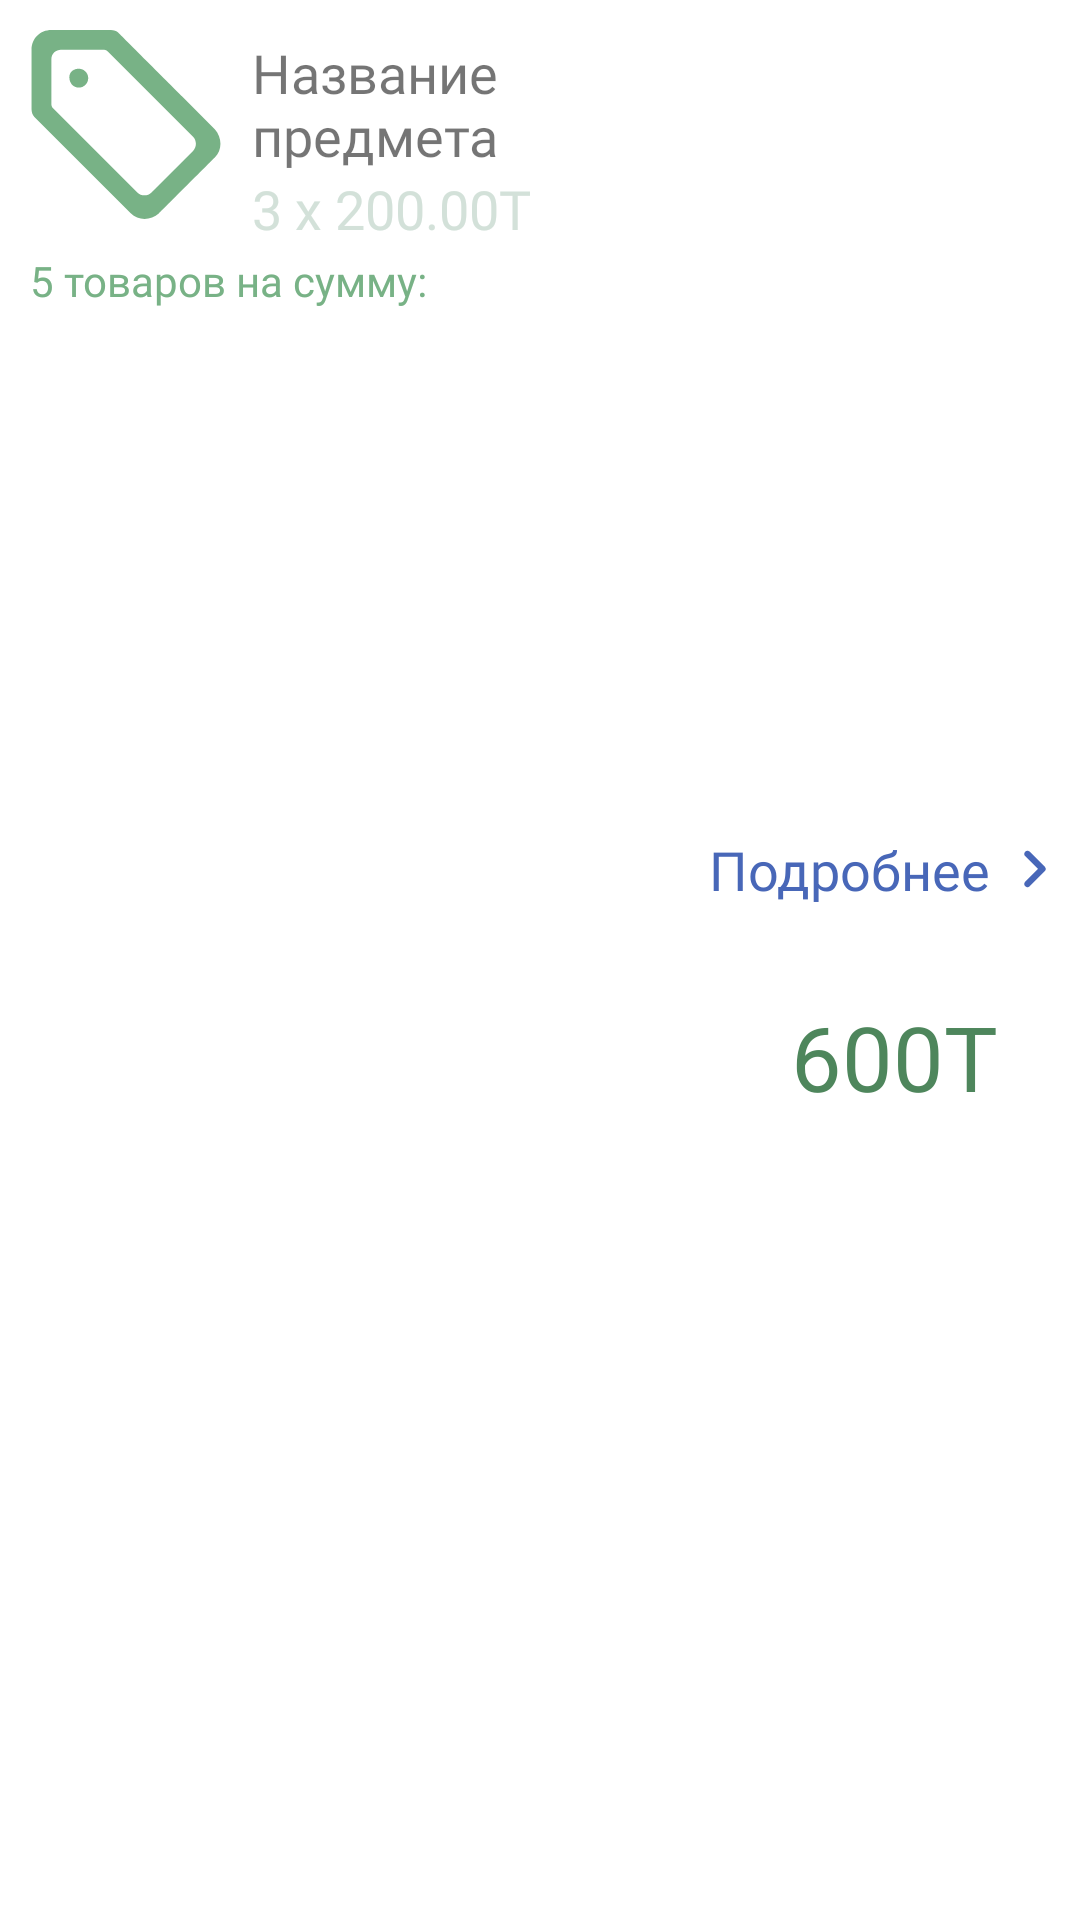

Where icons sit on this 1080 x 1920 app screen, as (x1, y1, x2, y2):
sell: (31, 30, 221, 219)
